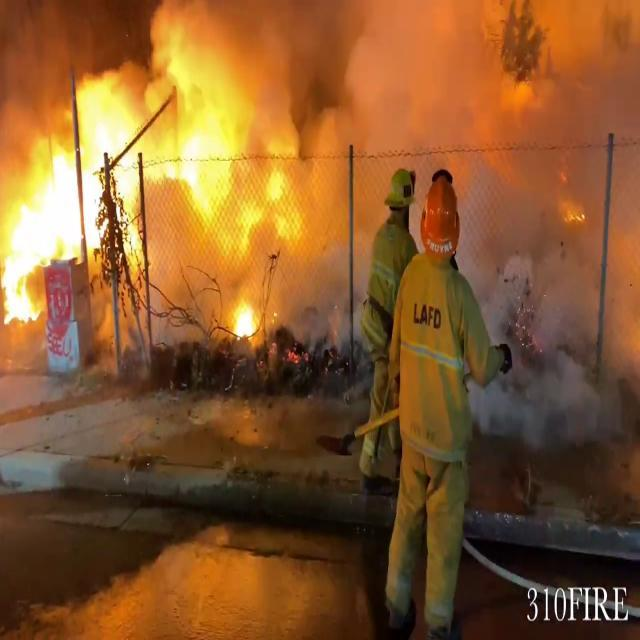Fire: (0, 4, 305, 340), (228, 290, 262, 346)
Smoke: (264, 0, 640, 347)
